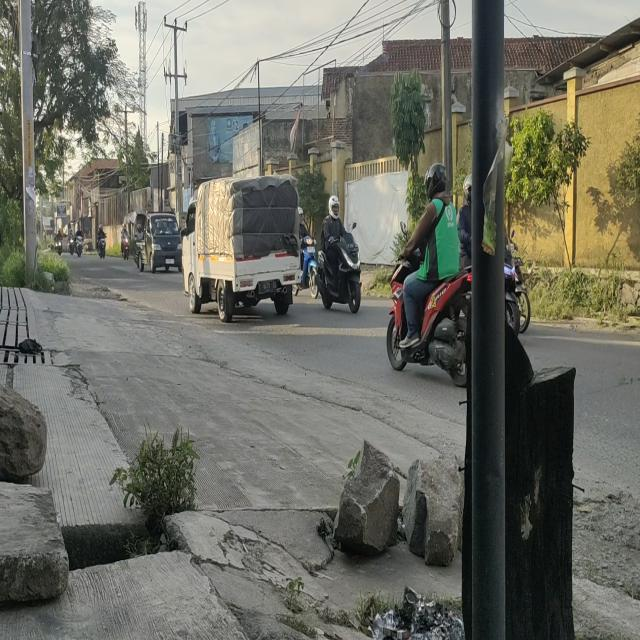helmet: (425, 160, 446, 195), (464, 173, 474, 205), (328, 196, 341, 218), (297, 205, 304, 224)
